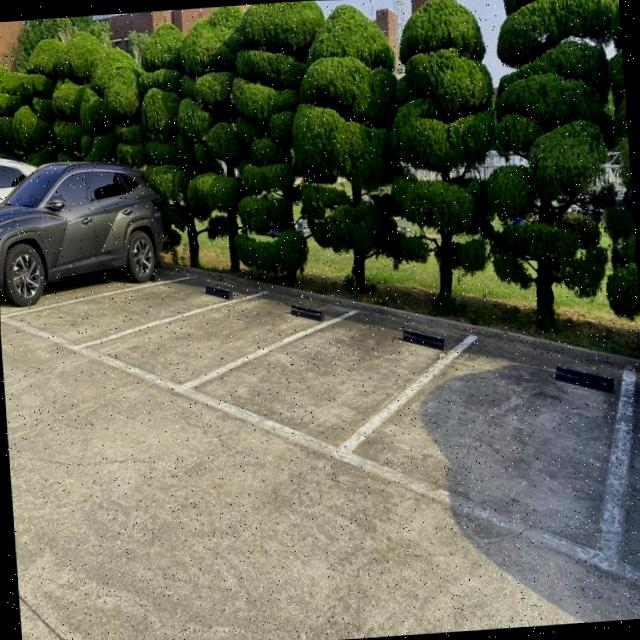free: (439, 332, 640, 539), (282, 288, 438, 479), (184, 294, 294, 414), (94, 264, 218, 318)
